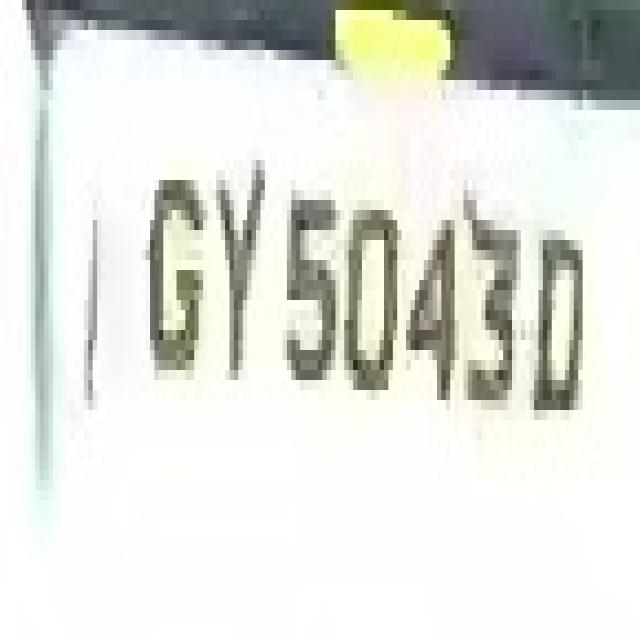0: (340, 130, 402, 430)
3: (459, 160, 525, 470)
4: (393, 160, 463, 420)
5: (274, 160, 340, 440)
D: (530, 170, 596, 470)
G: (137, 130, 207, 410)
Y: (203, 130, 278, 400)
